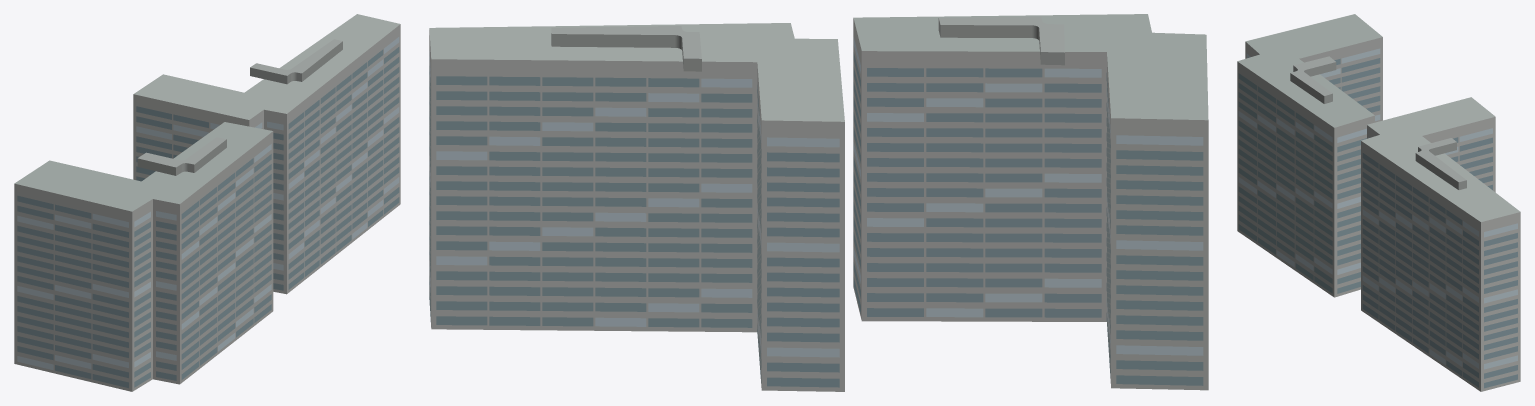
File: apt-a13612001.glb
The picture shows the model from 3 angles, left to right: view 1: azimuth 30°, elevation 25°; view 2: azimuth 150°, elevation 25°; view 3: azimuth 270°, elevation 25°; orthographic projection. The views are drawn at different scales.
Parts seen in each view (by area): view 1: apt-a13612001; view 2: apt-a13612001; view 3: apt-a13612001.
Boxes of the visible parts, box(x1,y1,x2,y2) form: apt-a13612001: box(14, 14, 400, 391); apt-a13612001: box(429, 14, 1208, 391); apt-a13612001: box(1237, 14, 1520, 391).
Size of the model in its own units: 126 by 50 by 72.28.
